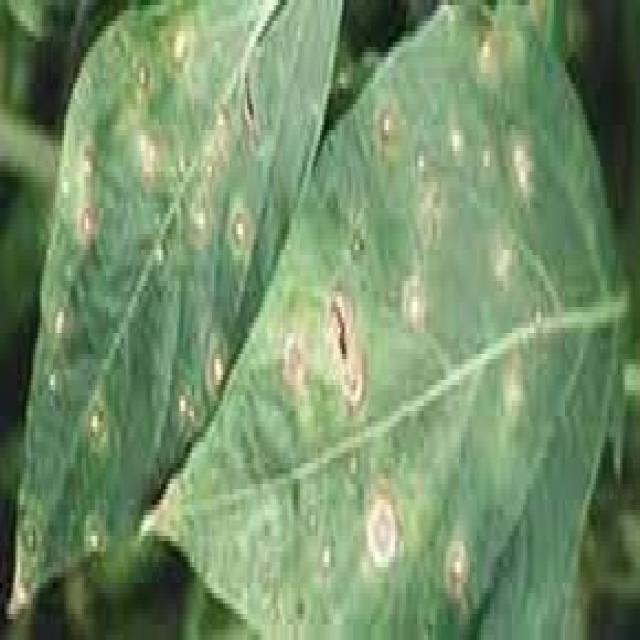bercak_daun: (289, 10, 578, 640), (7, 0, 269, 608)
